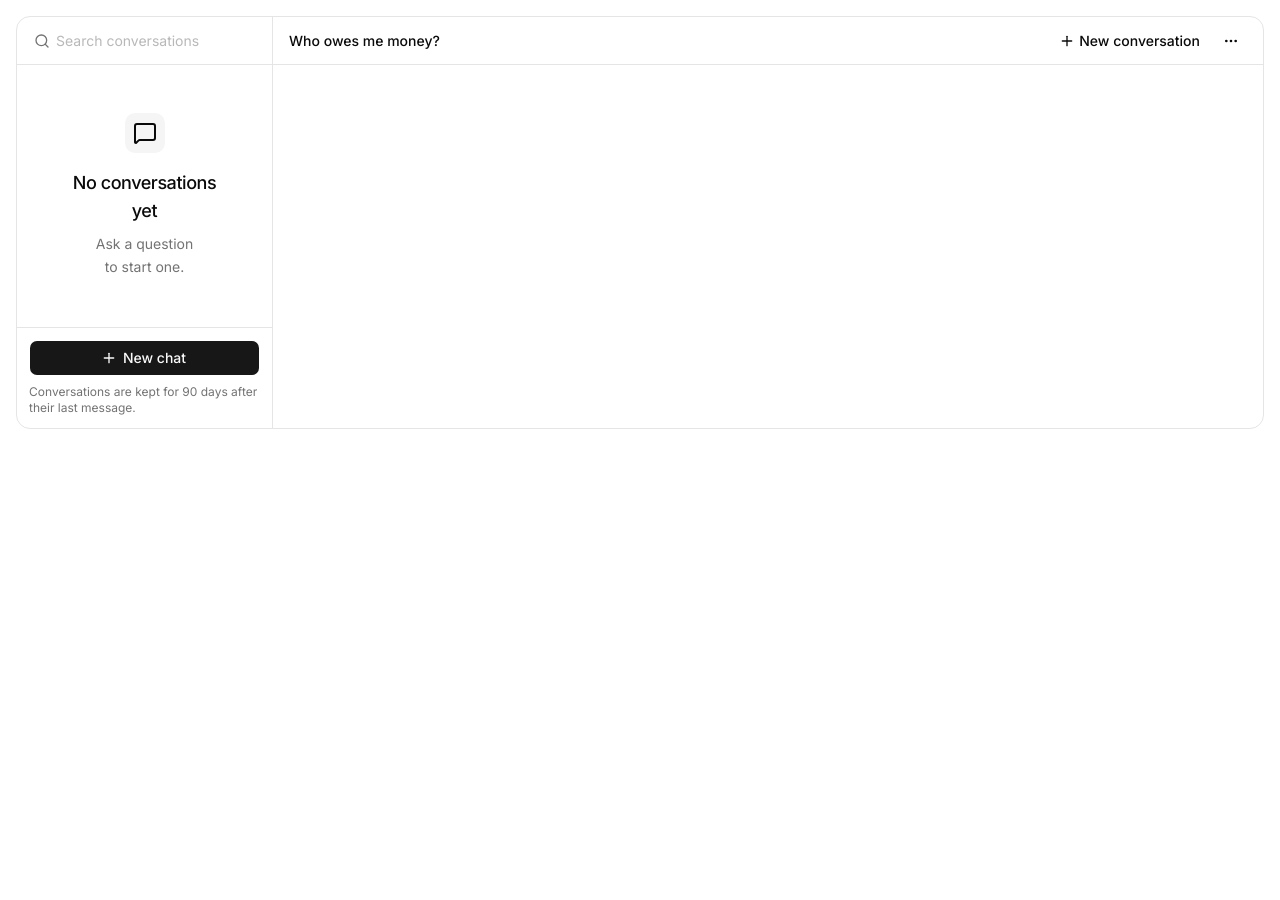
Test: SCR-04 delete Conversations dialog (T30, AC-37) › AI section layout › renders its children and mounts the AI modal container so the dialog can open
Click the button named "Conversation actions" at (1231, 40), box [1215, 24, 1247, 56]
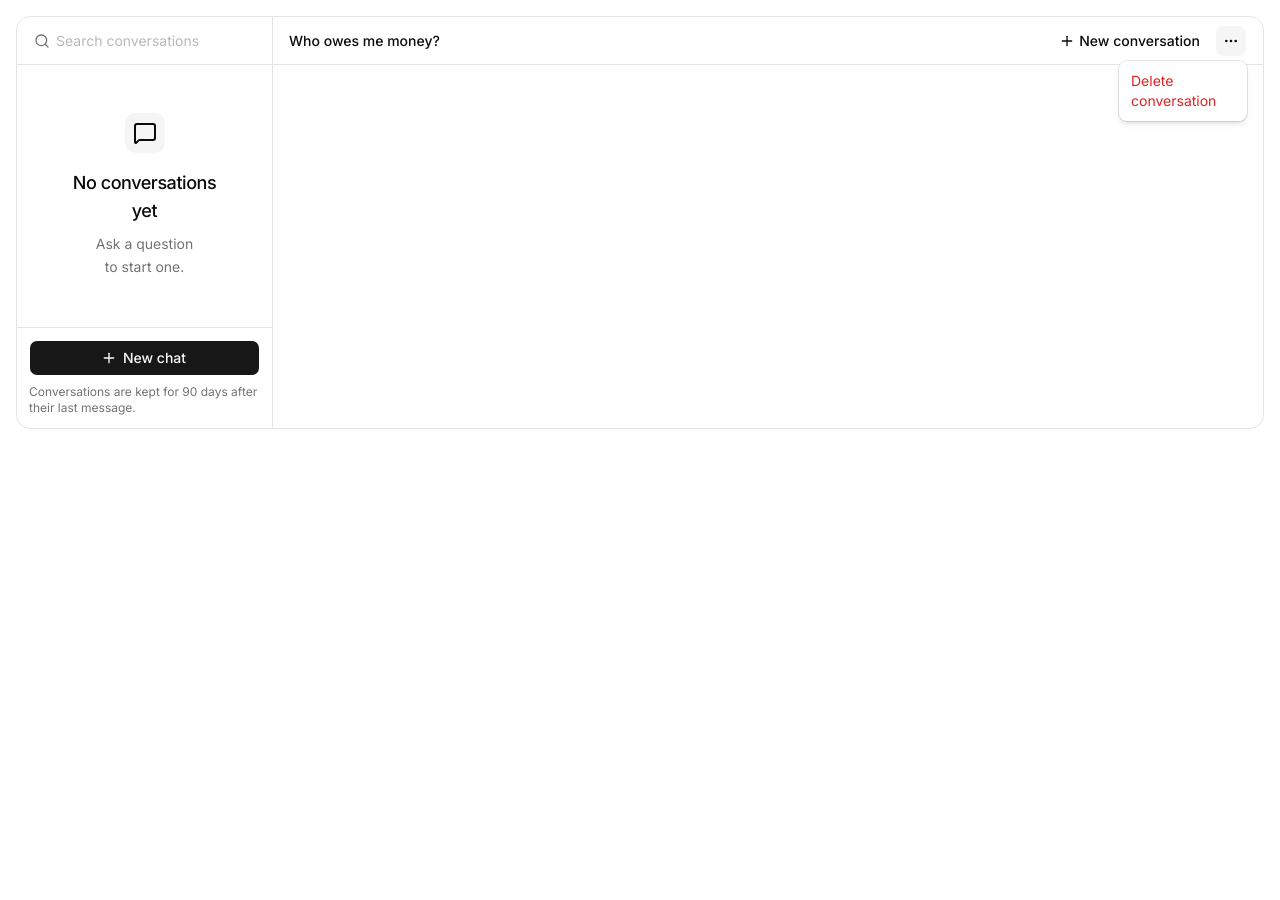
Click the menu item "Delete conversation" at (1174, 90), box [1131, 72, 1216, 109]
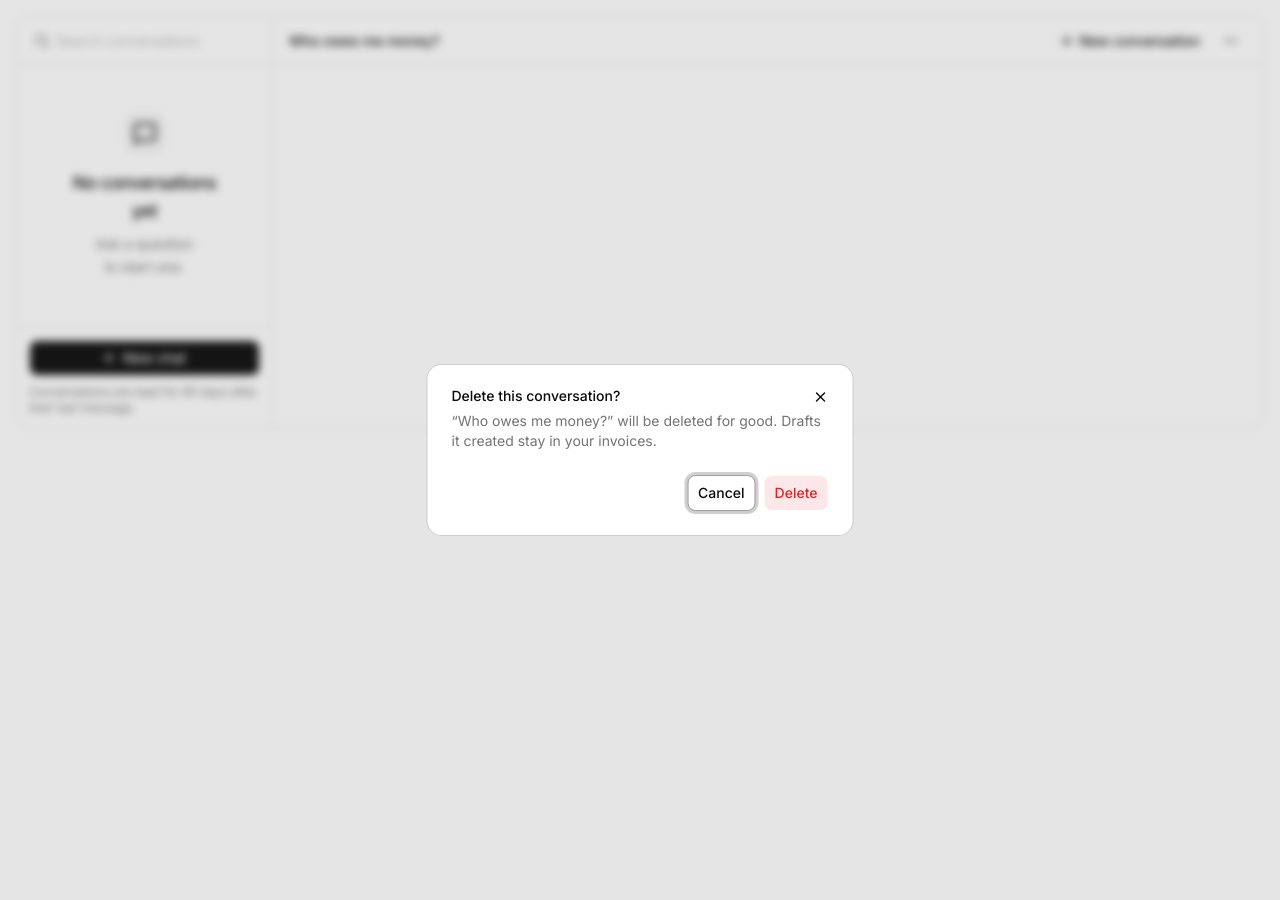
Expected: the heading "Delete this conversation?" is shown, [452, 387, 620, 404]
